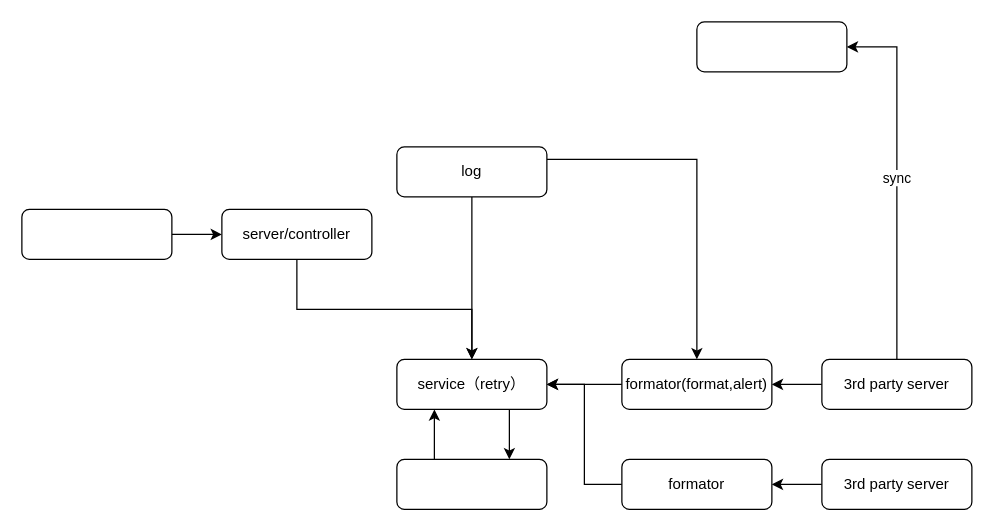
Image size: 994x531. Some labels were removed from this diagram. The box of each missing label's shape, as (x1, y1, x2, y2) in pixels:
browser: (21, 208, 172, 259)
cache: (396, 458, 547, 509)
db(sql,明文存储): (696, 21, 847, 72)
